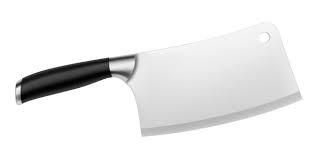Knife: (14, 20, 302, 136)
